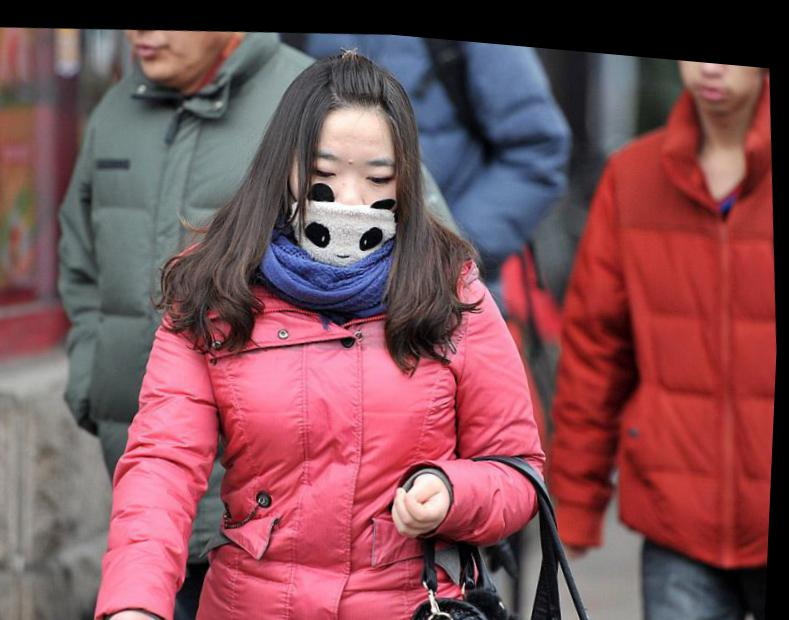NONE: (126, 21, 227, 92), (673, 48, 770, 105)
WRONG: (283, 132, 407, 261)
